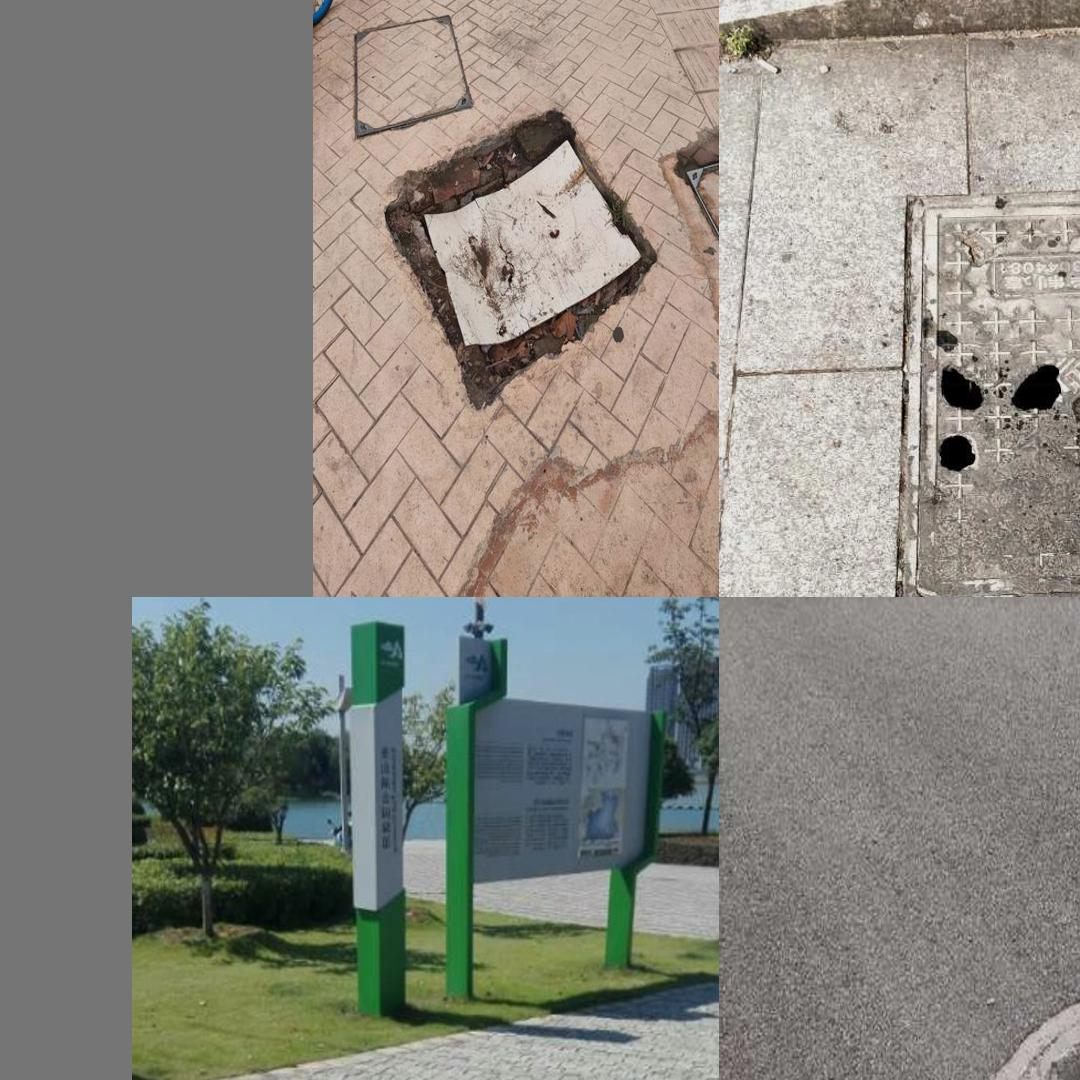broke: (374, 88, 664, 431), (902, 202, 1080, 597), (951, 967, 1080, 1080)
